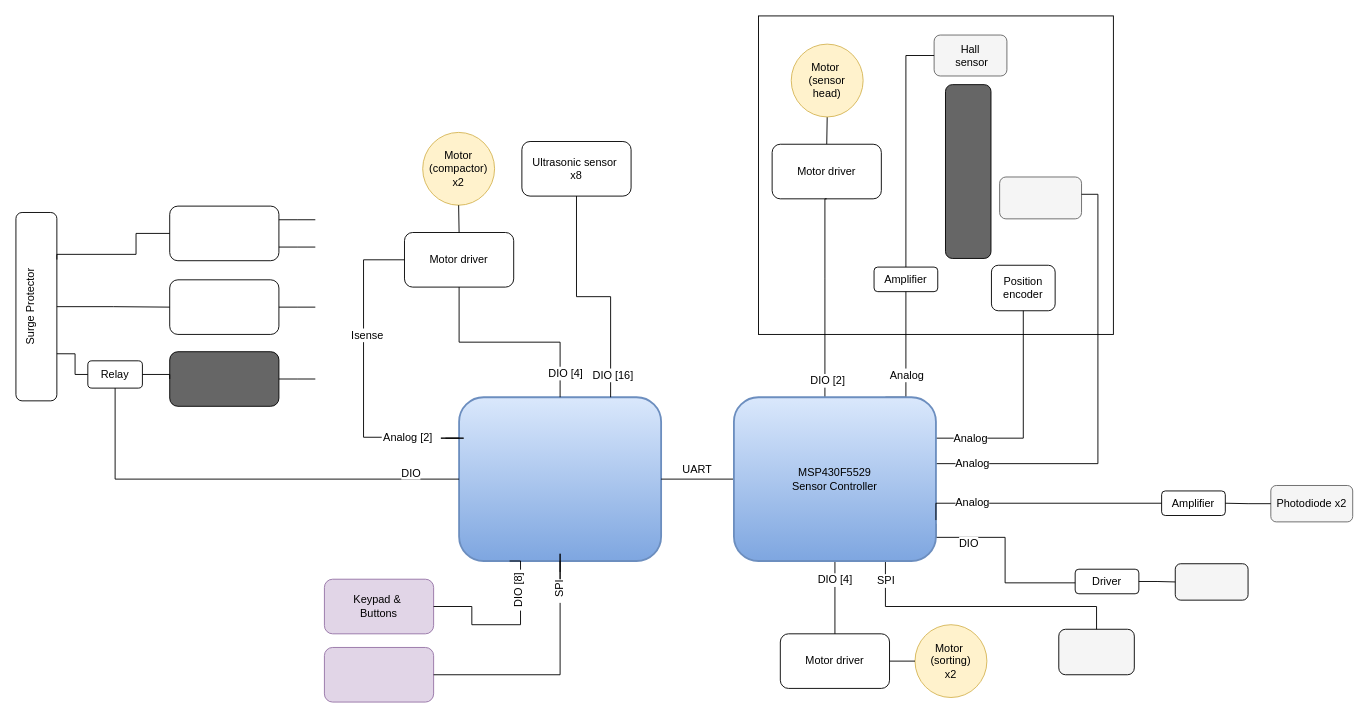
The diagram is 1369 pixels wide and 718 high, and some of its shapes have lost their labels. Here are the shapes that lost their labels. From the top down, the centre of each, then its label:
At [968,171]: "Nichrome Wire".
At [1040,197]: "Temperature sensor".
At [224,233]: "Power supply (motors)".
At [224,306]: "Power supply (analog/logic)".
At [224,378]: "Soldering iron".
At [560,478]: "MSP430F5529 Aux Controller".
At [1211,581]: "LED x90".
At [1096,651]: "Inductance sensor x4".
At [379,674]: "LCD".
